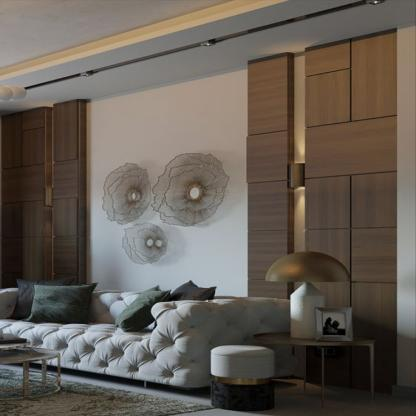Wall Panel: (0, 27, 414, 351)
